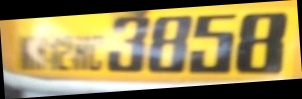character: (235, 11, 287, 72), (188, 12, 236, 74), (146, 15, 194, 73), (105, 14, 149, 72)
